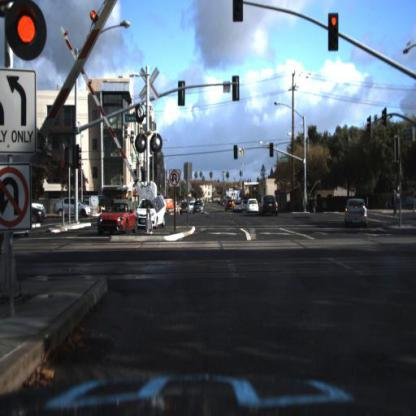car: (344, 190, 375, 237), (98, 200, 138, 235), (52, 197, 94, 223), (257, 189, 284, 225), (138, 198, 168, 229), (243, 194, 264, 222), (24, 207, 47, 226), (247, 196, 264, 217), (30, 212, 45, 233), (232, 196, 244, 216), (191, 199, 205, 216), (178, 198, 192, 214), (32, 202, 49, 215), (178, 201, 190, 216), (225, 198, 235, 215), (226, 196, 234, 214)
pedestrian: (392, 177, 402, 217), (392, 187, 402, 219), (312, 188, 322, 215)
trafficLight: (328, 13, 339, 52), (233, 138, 243, 164), (269, 141, 276, 159)
trafficLight-Green: (299, 164, 307, 185)
trafficLight-Red: (1, 1, 69, 66), (324, 9, 345, 58)
